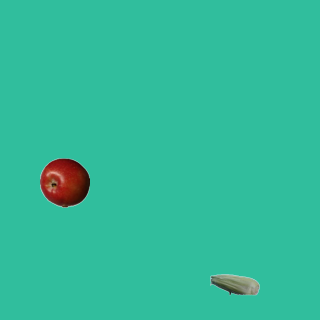Apple Braeburn: (39, 157, 89, 207)
Corn Husk: (209, 259, 259, 309)
